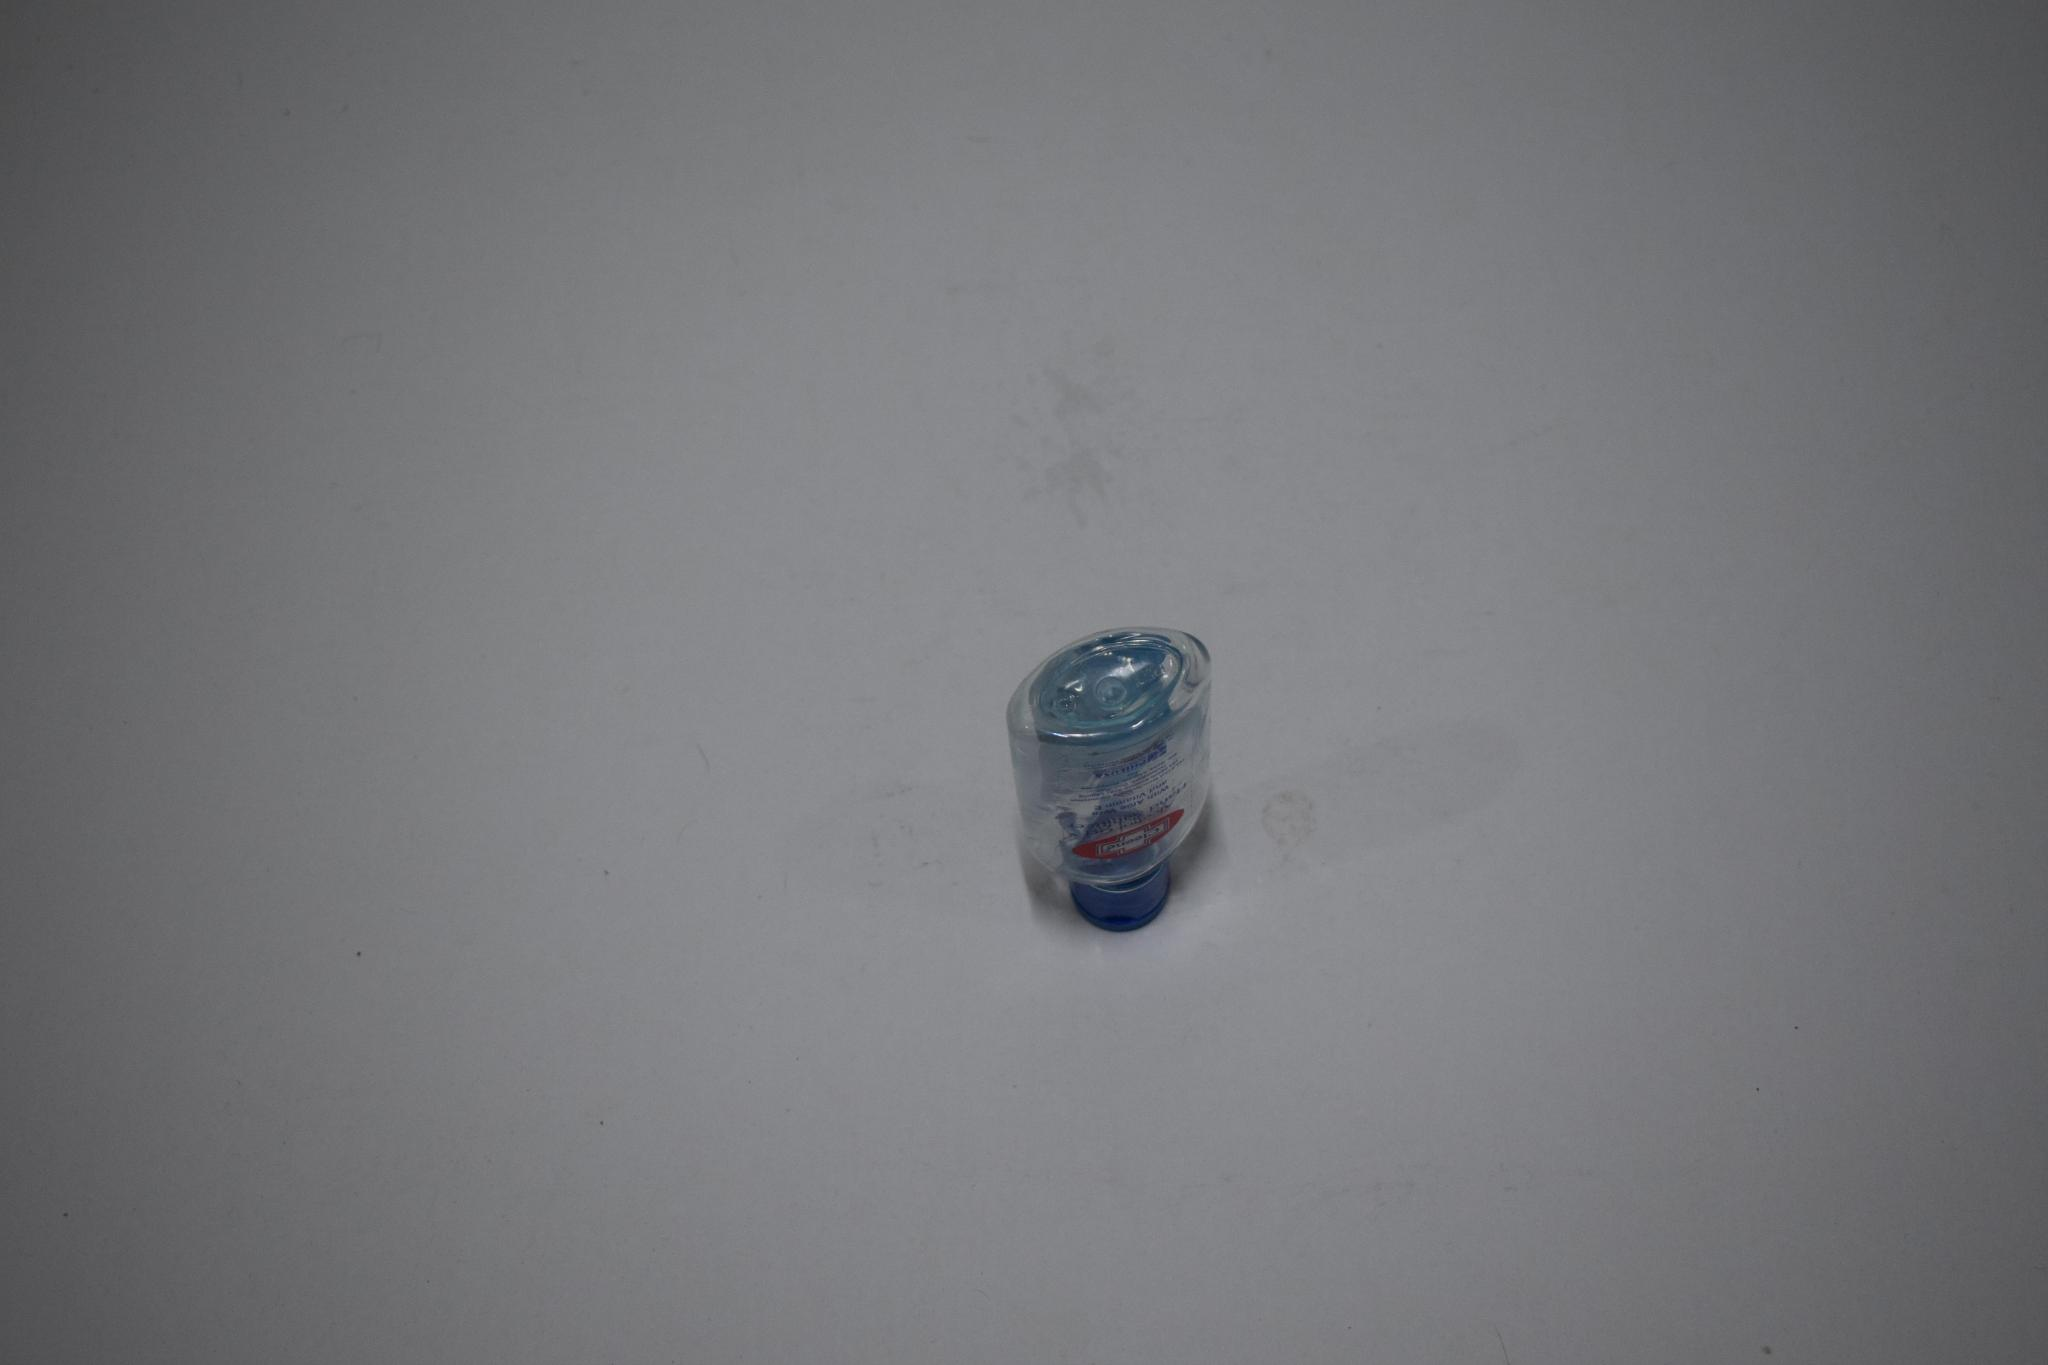bottle: (1011, 590, 1246, 957)
